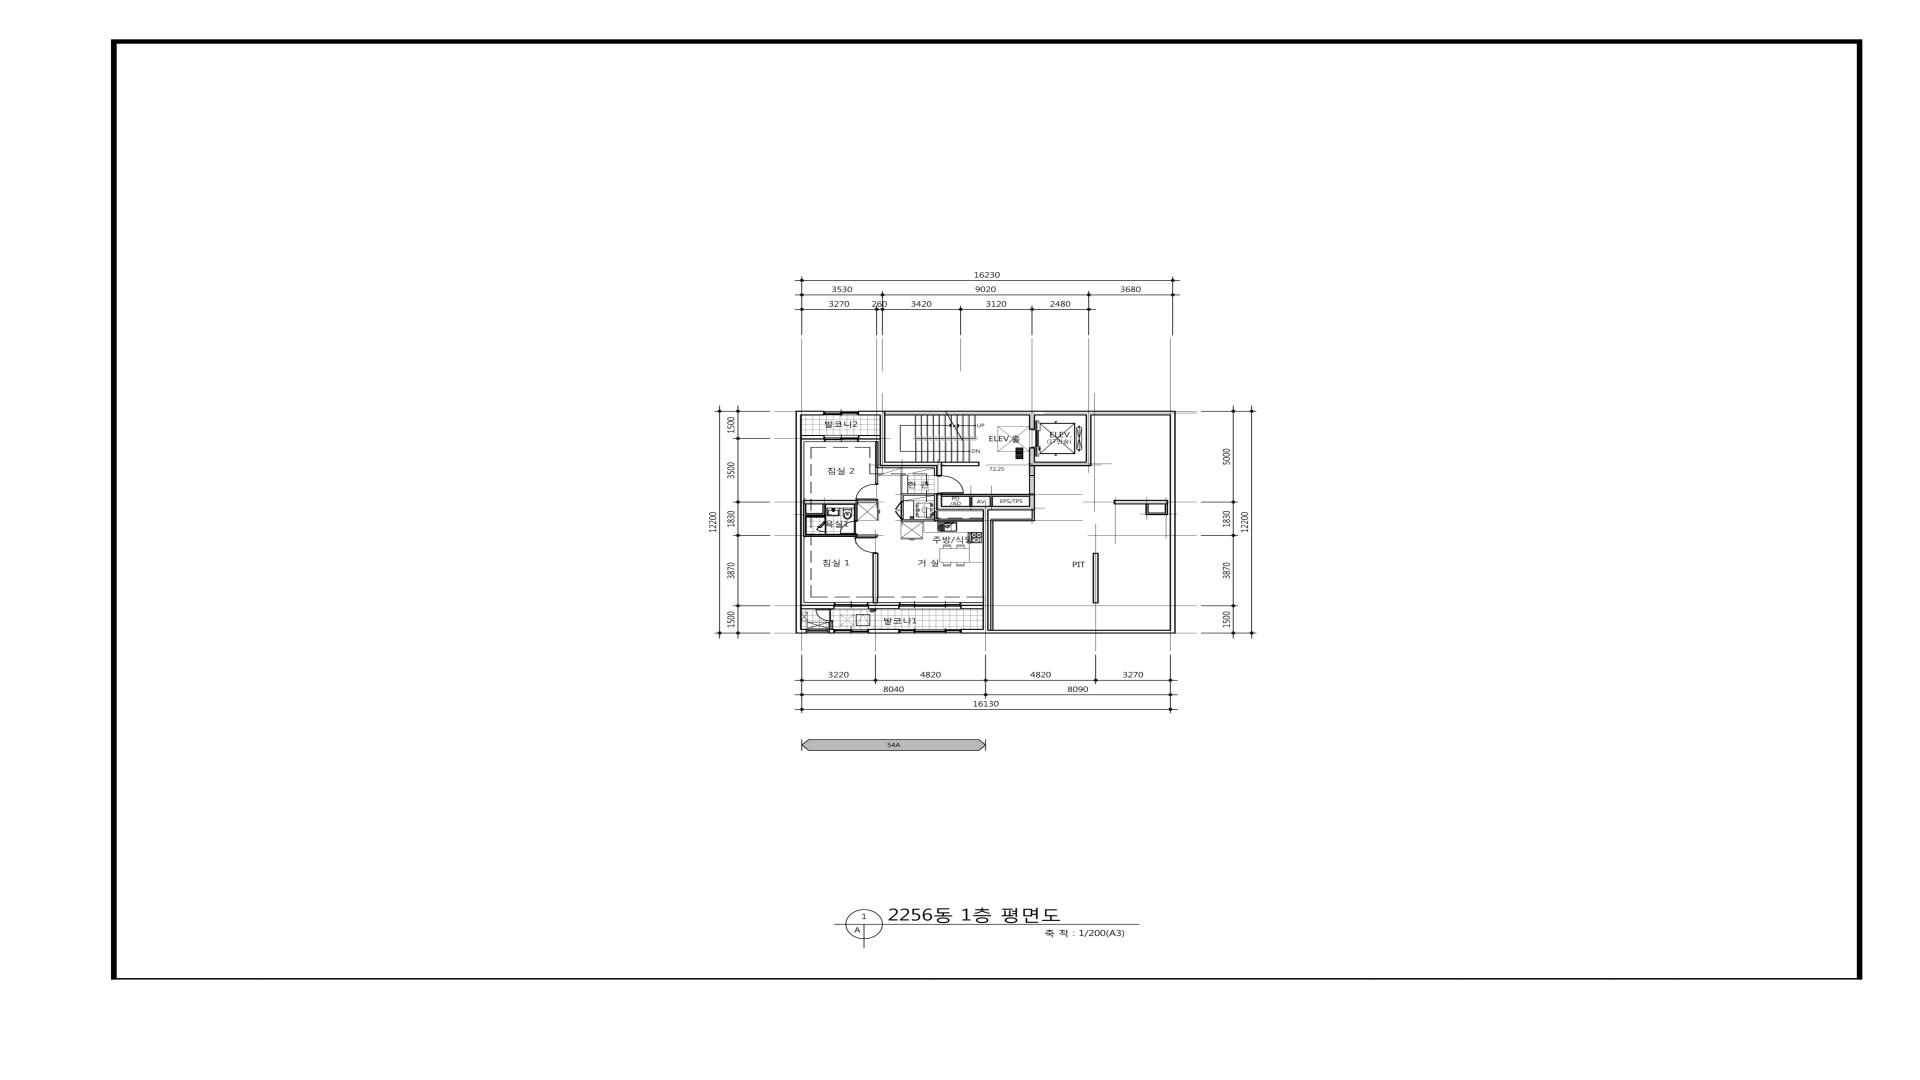door: (936, 476, 964, 494), (854, 537, 877, 553), (855, 484, 878, 500), (840, 520, 857, 534), (815, 609, 833, 621), (894, 501, 904, 519), (816, 520, 826, 532)
wall: (1169, 415, 1176, 630), (796, 415, 802, 629), (859, 411, 1176, 415), (988, 630, 1176, 634), (983, 510, 988, 634), (942, 506, 1035, 510), (886, 462, 979, 466), (1029, 447, 1035, 506), (990, 521, 993, 630), (880, 415, 886, 466), (872, 553, 878, 603), (1093, 553, 1099, 603), (1114, 500, 1168, 505), (942, 494, 1029, 497), (1086, 415, 1091, 466), (803, 500, 858, 504), (1035, 462, 1086, 466), (868, 629, 899, 634), (806, 534, 857, 537), (934, 519, 983, 522), (875, 441, 878, 484), (802, 605, 834, 609), (868, 605, 899, 609), (796, 411, 824, 415), (961, 629, 983, 634), (858, 435, 880, 440), (802, 435, 824, 440), (936, 493, 942, 510), (803, 504, 806, 537), (904, 493, 935, 496), (961, 605, 983, 609), (1029, 415, 1035, 429), (990, 519, 1032, 521), (901, 519, 934, 521), (854, 504, 858, 520), (857, 534, 878, 537), (936, 466, 942, 476), (796, 629, 807, 634), (806, 513, 826, 515), (858, 500, 878, 502), (1146, 513, 1165, 515), (822, 504, 826, 513), (1032, 510, 1035, 521), (1165, 505, 1168, 515), (969, 497, 972, 506), (990, 497, 993, 506), (830, 621, 833, 629), (1146, 505, 1149, 513), (934, 511, 937, 519), (901, 493, 904, 501), (829, 629, 834, 633), (825, 515, 826, 520), (825, 532, 826, 534)
window: (899, 602, 961, 609), (899, 629, 961, 634), (824, 435, 859, 442), (834, 602, 868, 609), (834, 629, 868, 634), (824, 411, 859, 415), (807, 629, 829, 634)
